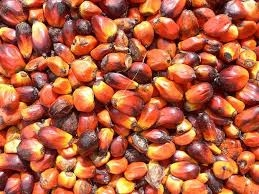kitchen_waste: (215, 63, 254, 94), (109, 87, 144, 115), (36, 124, 75, 149), (29, 20, 54, 59), (150, 75, 186, 102), (39, 1, 74, 27), (1, 41, 25, 78), (182, 79, 216, 105), (89, 14, 120, 42), (193, 110, 220, 142), (201, 11, 234, 37), (133, 101, 162, 130), (46, 93, 77, 120), (16, 137, 48, 163), (233, 103, 259, 133), (100, 50, 133, 73), (130, 19, 157, 47), (187, 139, 216, 165), (208, 94, 238, 119), (68, 58, 99, 81), (146, 140, 178, 162), (1, 1, 28, 27), (153, 15, 181, 40), (76, 130, 100, 159), (126, 61, 157, 83), (72, 85, 97, 112), (169, 160, 201, 181), (69, 34, 99, 56), (108, 132, 131, 160), (166, 61, 196, 82), (1, 1, 27, 25), (1, 151, 28, 174), (158, 106, 185, 129), (143, 47, 171, 69), (138, 126, 174, 143), (13, 84, 42, 105), (91, 79, 115, 103), (234, 150, 257, 175), (211, 158, 235, 181), (105, 155, 130, 174), (160, 1, 187, 18), (99, 1, 129, 16), (56, 169, 78, 189)
